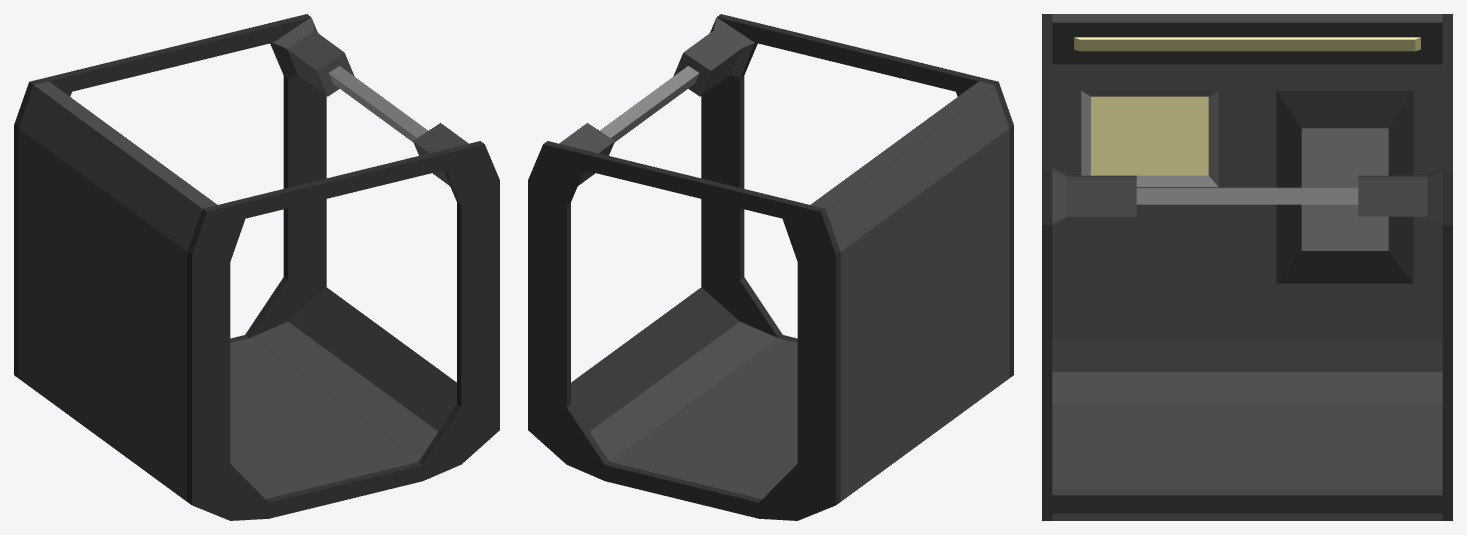
The model's file is Tile_3.fbx.
3 renders of one model, left to right at view 1: azimuth 30°, elevation 25°; view 2: azimuth 150°, elevation 25°; view 3: azimuth 270°, elevation 25°, orthographic. The views are drawn at different scales.
Parts seen in each view (by area): view 1: Tile3; view 2: Tile3; view 3: Tile3.
Boxes of the visible parts, x1,y1,x2,y2 form: Tile3: (14, 14, 499, 520); Tile3: (528, 14, 1013, 520); Tile3: (1042, 14, 1452, 520).
Size of the model in its own units: 200 by 200 by 200.
